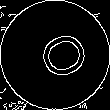O_SW: (23, 25, 87, 85)
